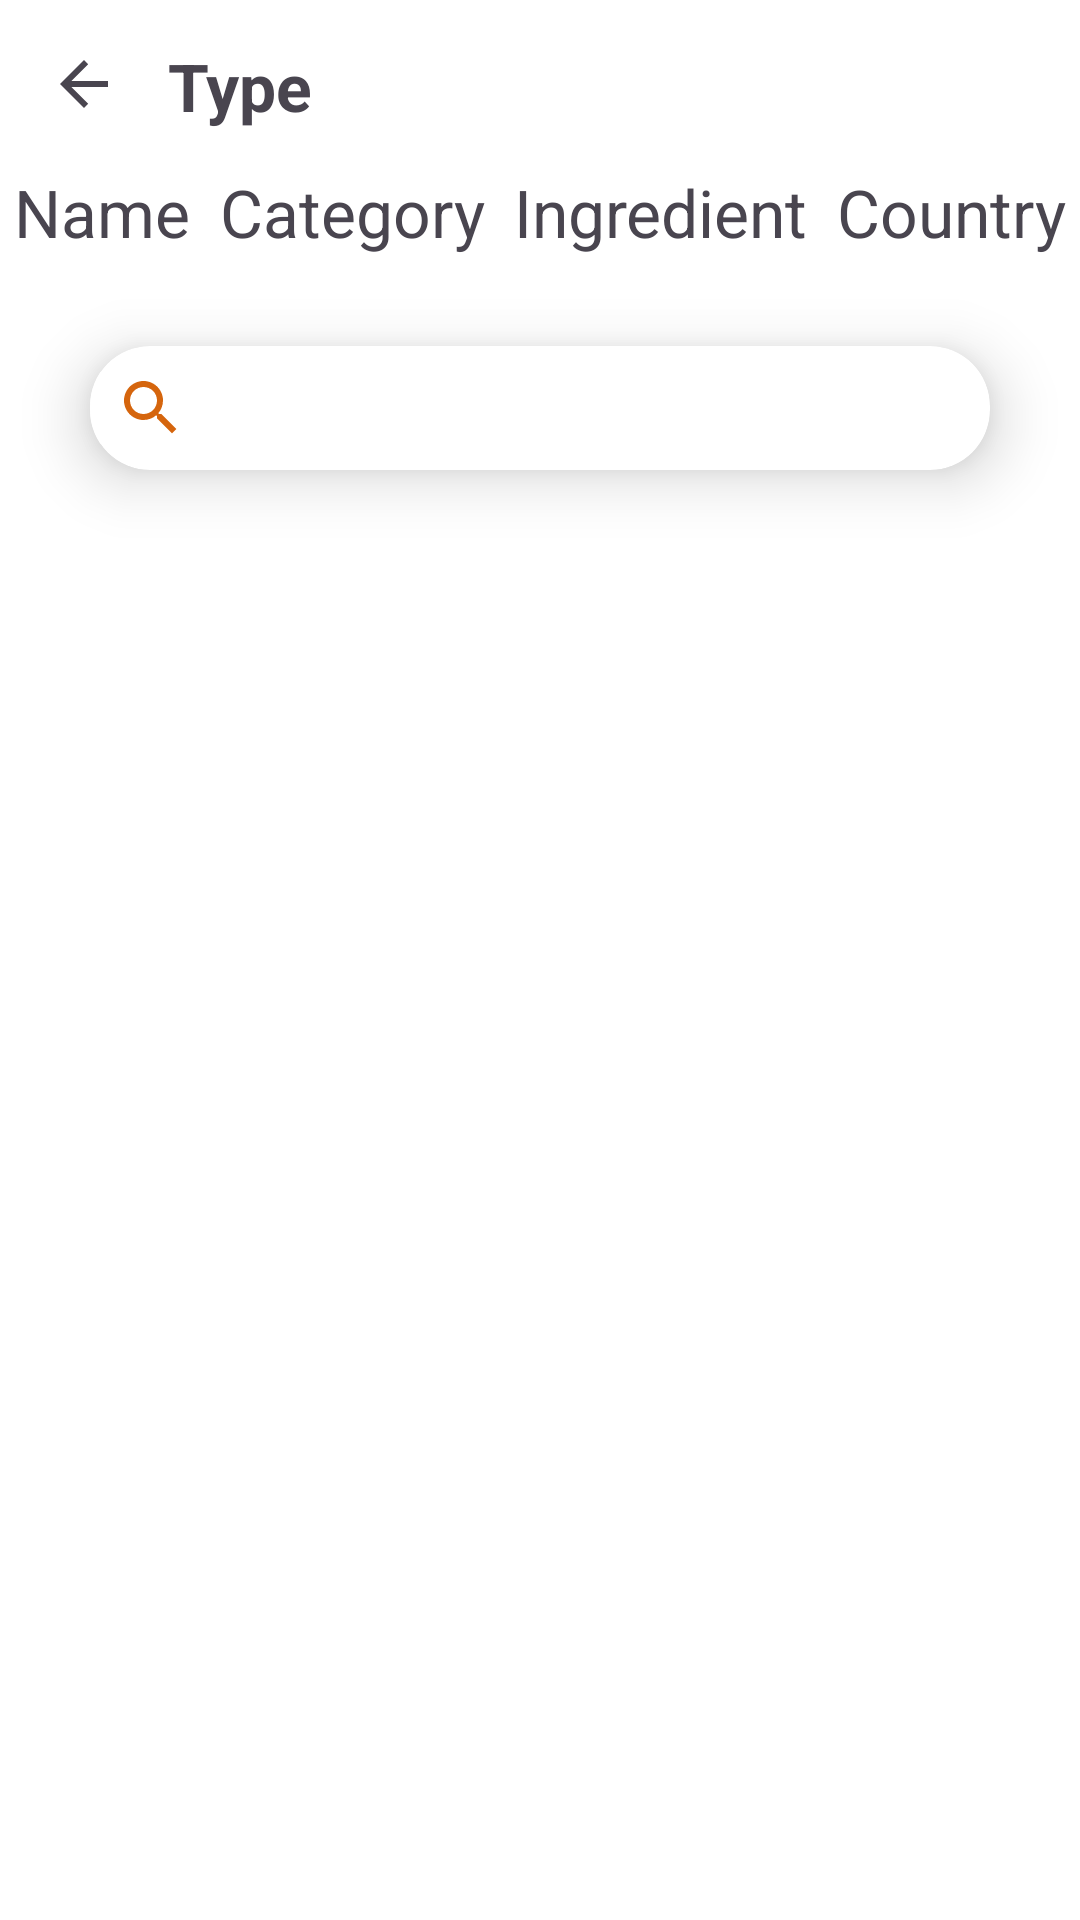

Named icons in this screenshot (1080px x 1920px) and their centers, (x,y):
search: (135,404)
